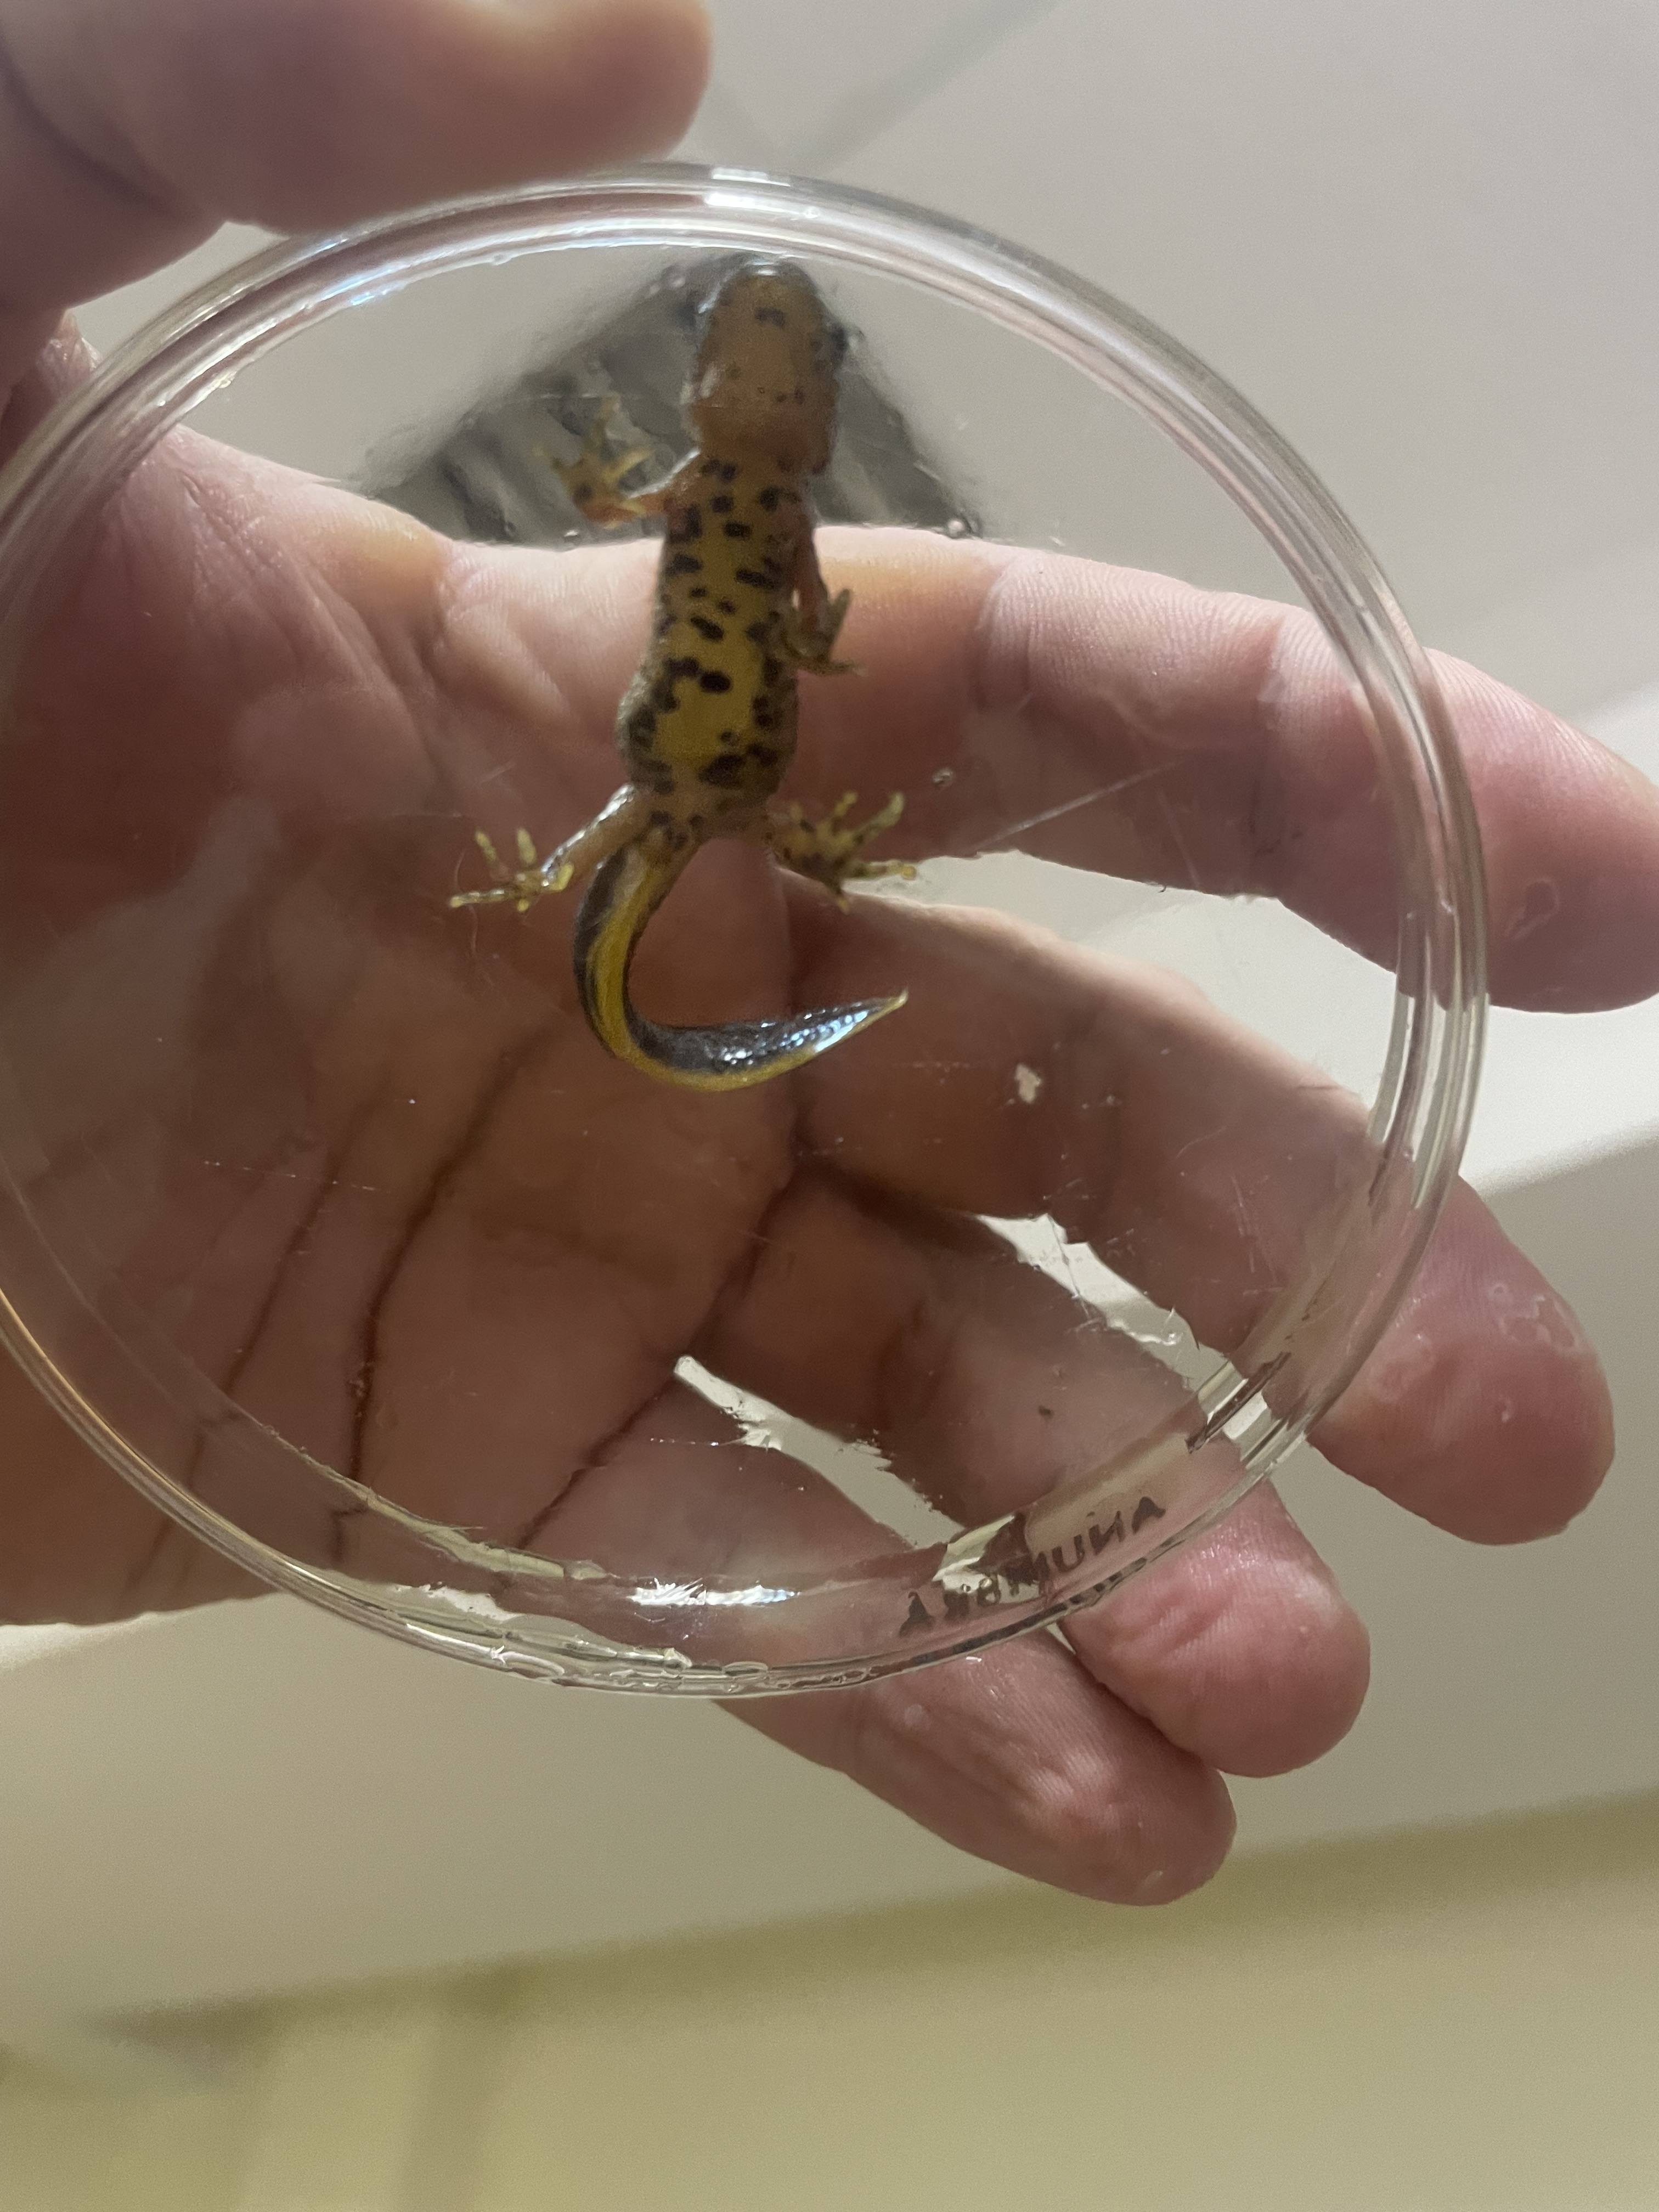Karelin_newt: (613, 517, 800, 799)
